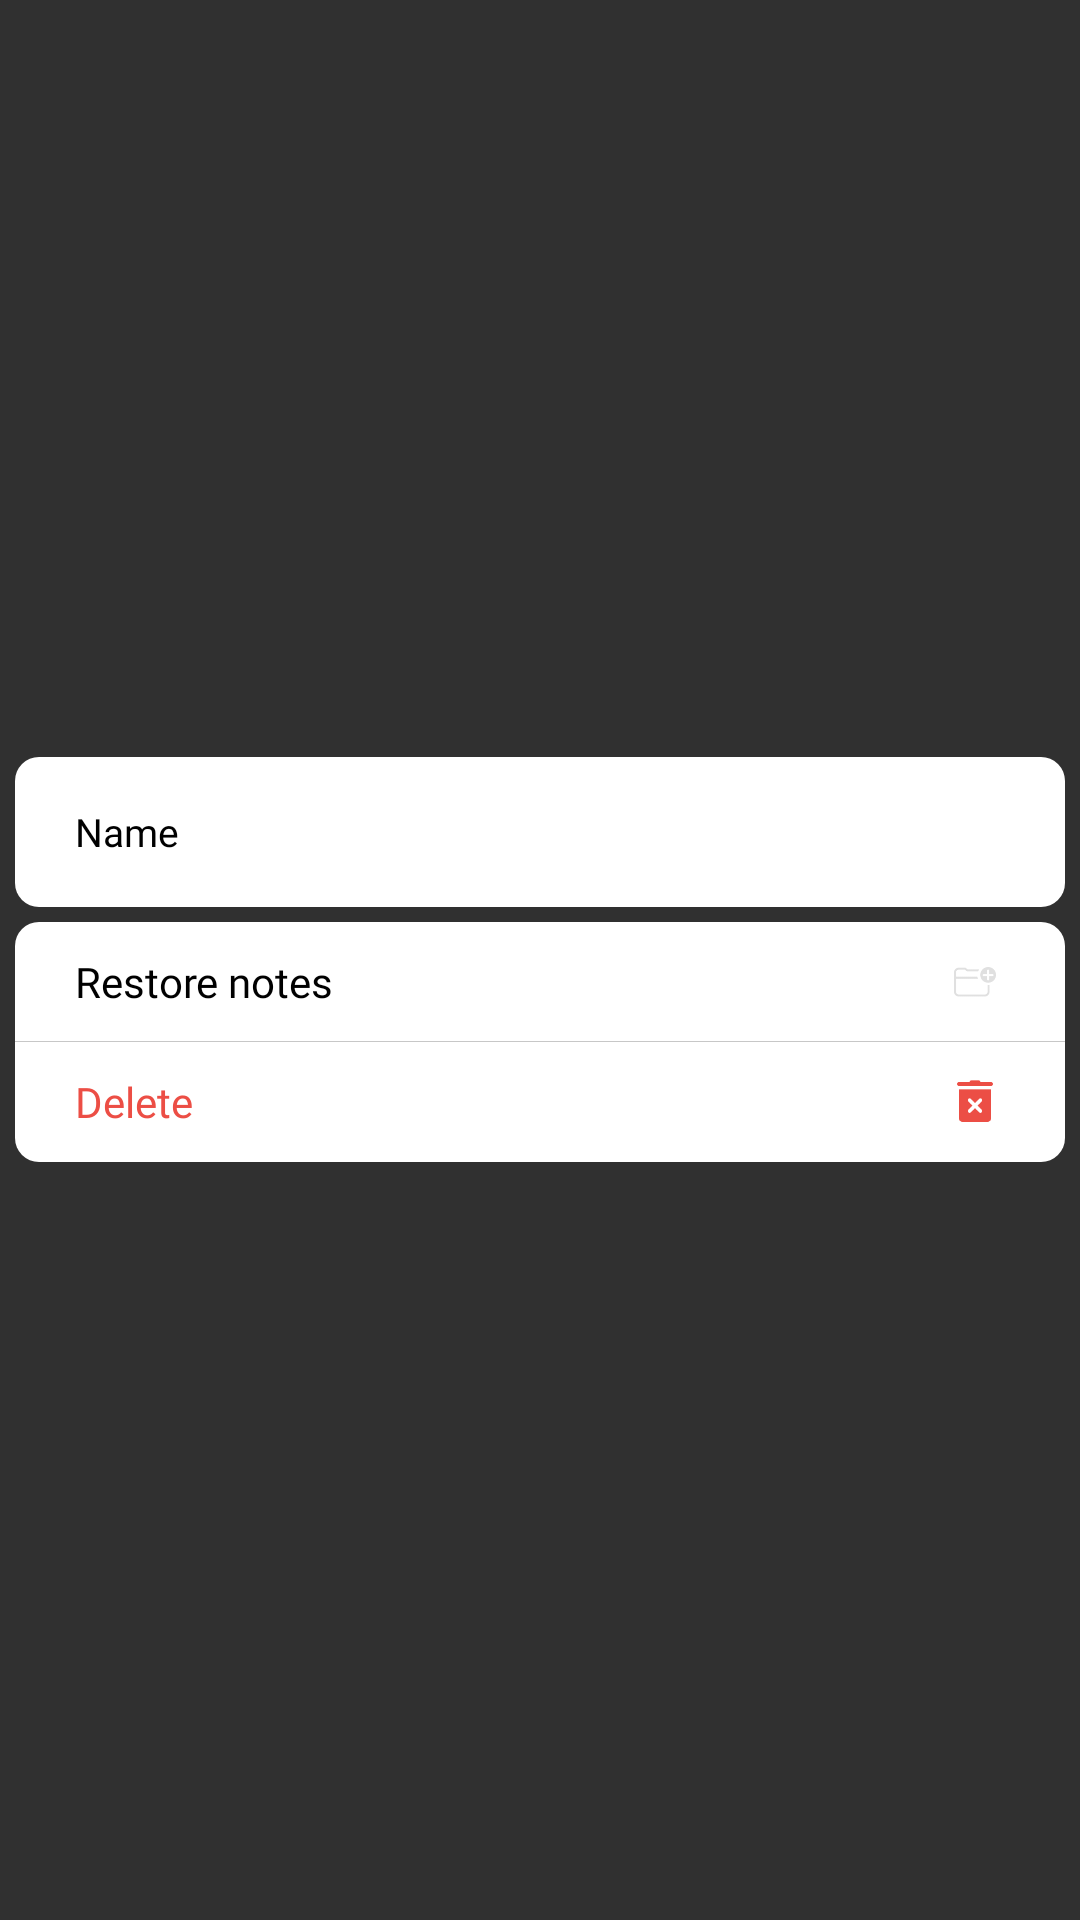

Screen size 1080px×1920px. Icon name, then its box in pixels as (x1=x1, y1=y1, x2=x2, y2=y2):
add folder: (x1=954, y1=967, x2=996, y2=996)
delete dl: (x1=957, y1=1080, x2=993, y2=1122)
